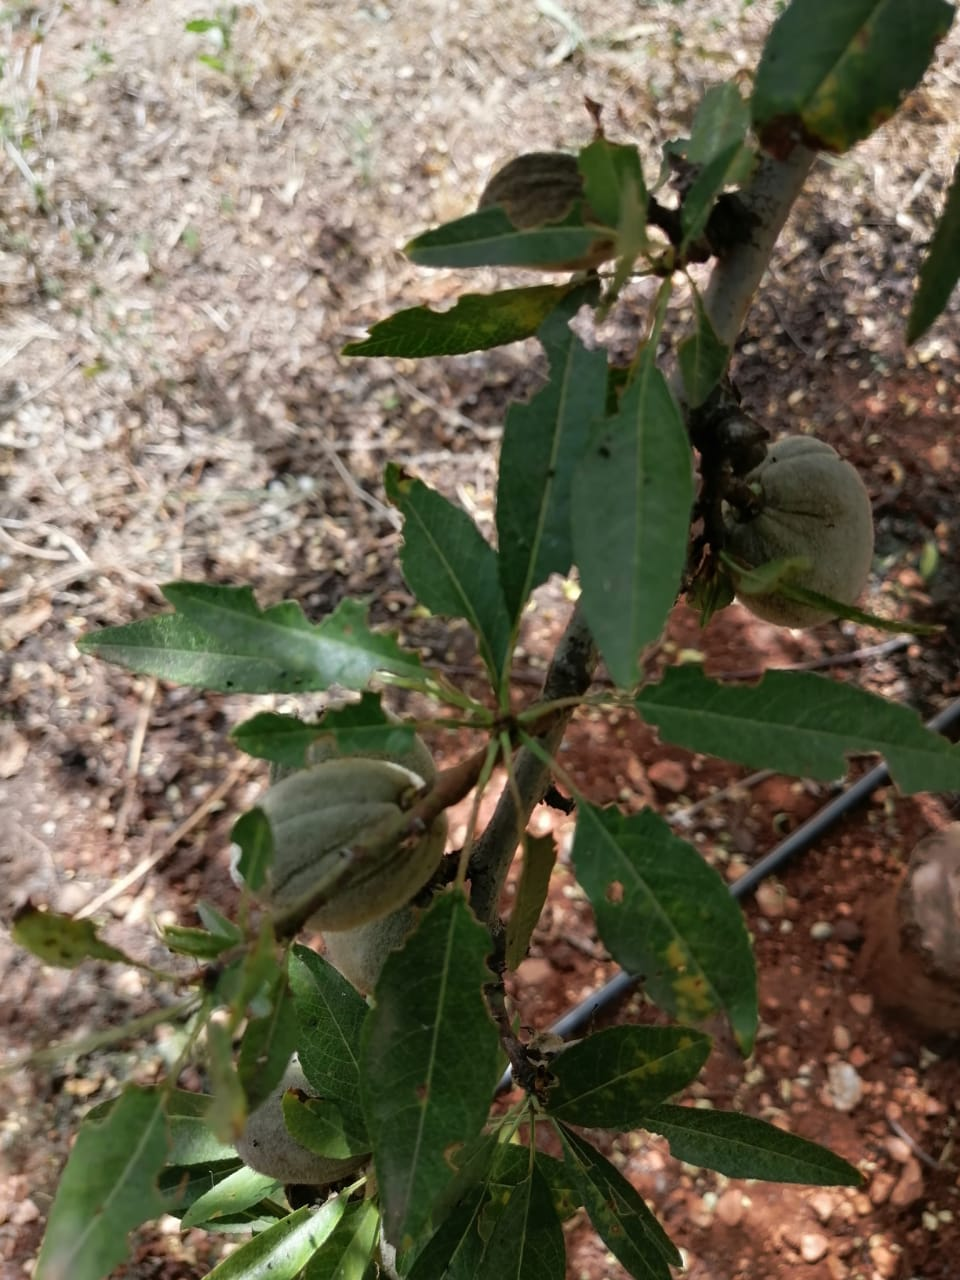othyorinques: (357, 880, 503, 1280), (572, 794, 761, 1056), (634, 658, 960, 803), (563, 352, 695, 685), (153, 575, 429, 699), (384, 458, 509, 698), (338, 273, 607, 358)
